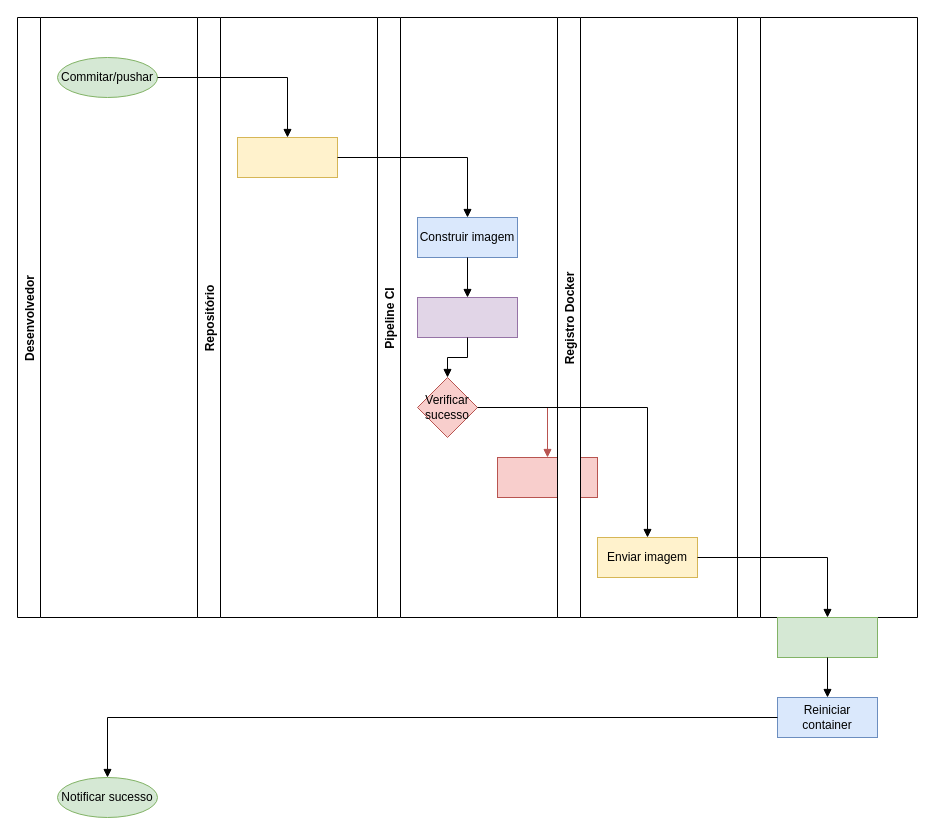
The diagram is 935 pixels wide and 835 high, and some of its shapes have lost their labels. Each missing label, with the centre of its shape:
"Disparar pipeline" belongs at (x=287, y=157).
"Fazer deploy" belongs at (x=827, y=637).
"Notificar falha" belongs at (x=547, y=477).
"Produção" belongs at (x=827, y=317).
"Testar aplicação" belongs at (x=467, y=317).
